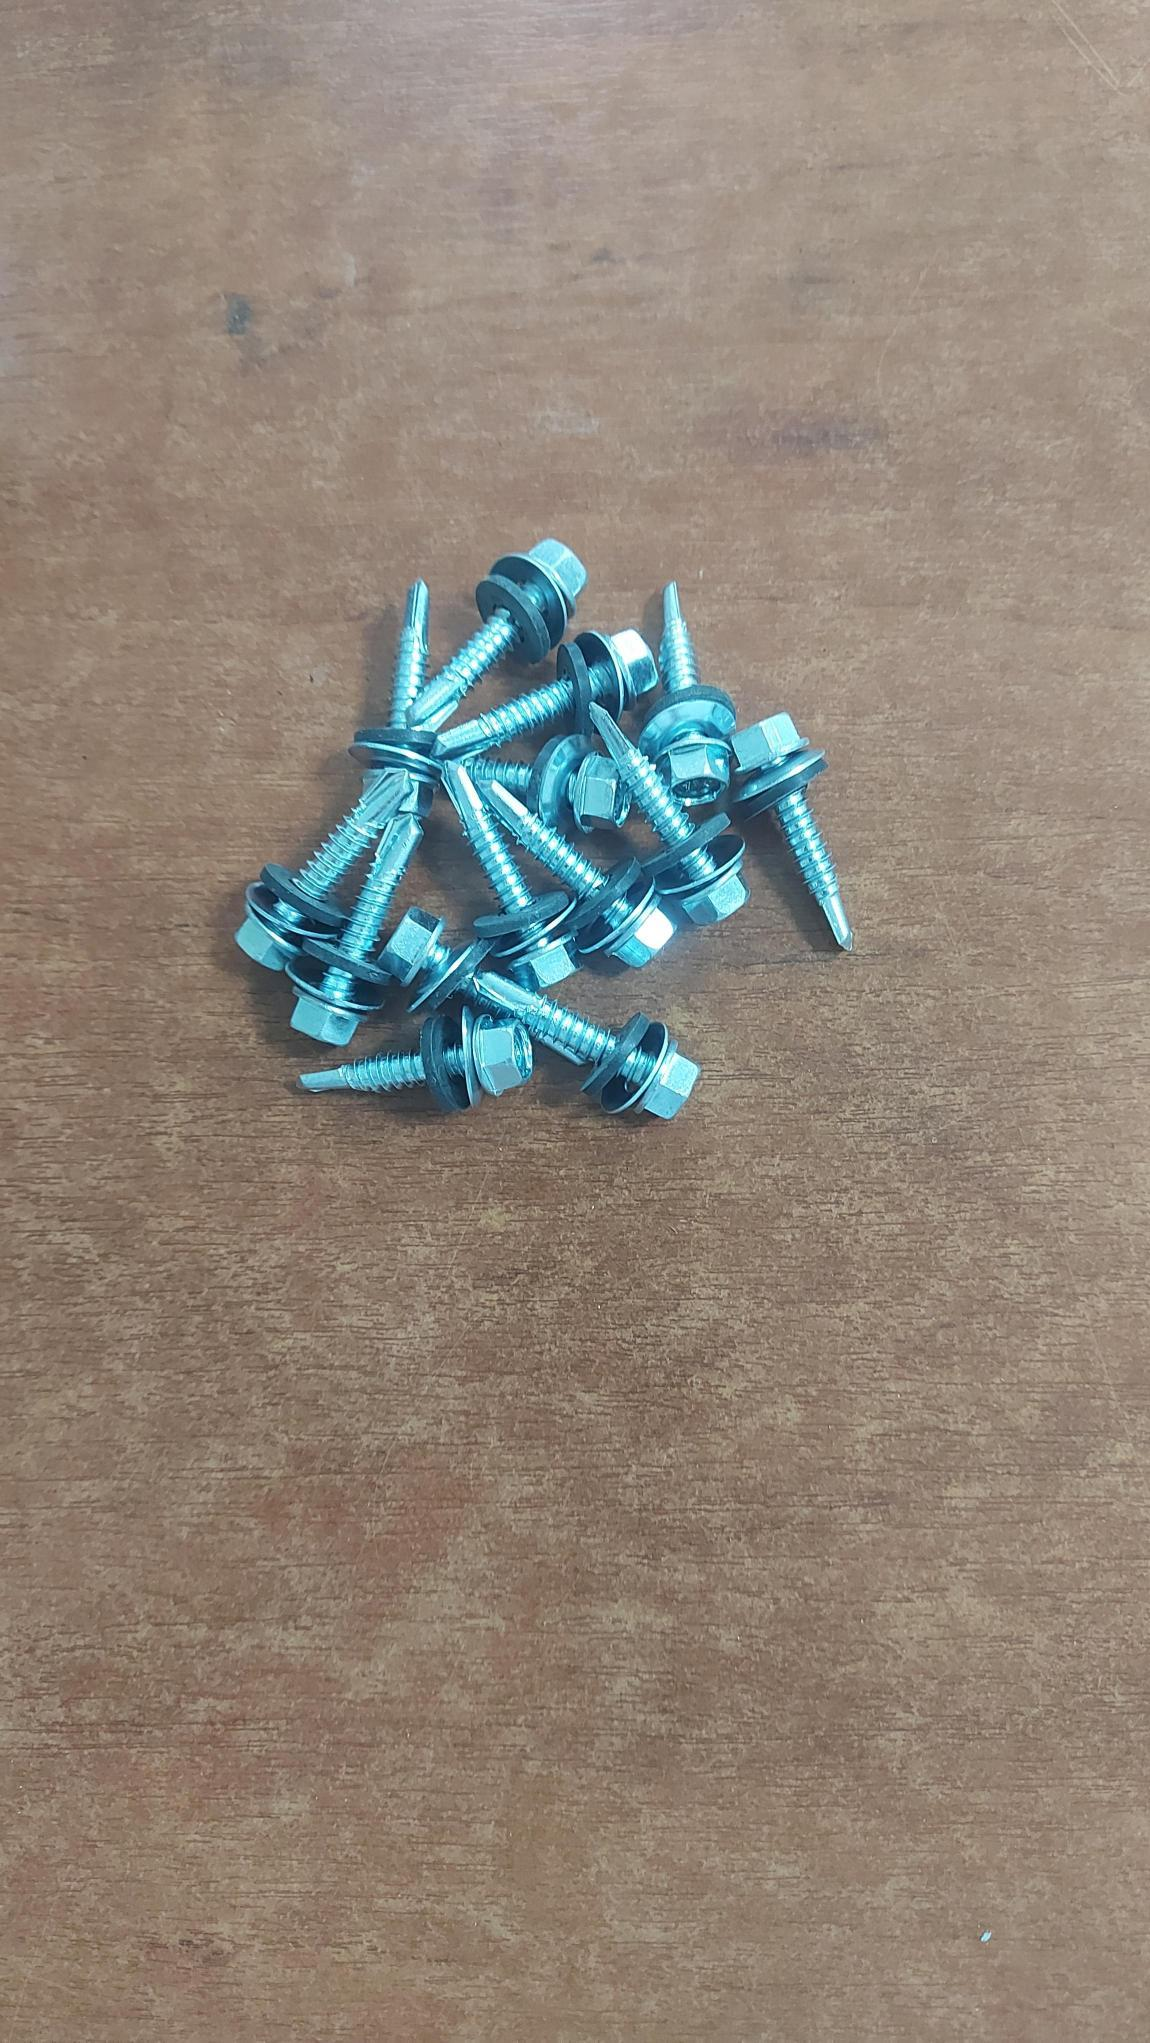Screw: (381, 911, 698, 1118), (478, 783, 689, 970), (590, 706, 747, 925), (442, 761, 585, 986), (414, 539, 585, 723), (429, 630, 659, 765), (287, 814, 421, 1044), (236, 791, 397, 971), (732, 713, 853, 950), (300, 1005, 532, 1111), (640, 582, 736, 805), (349, 581, 436, 815), (468, 732, 630, 833), (390, 580, 428, 725)
